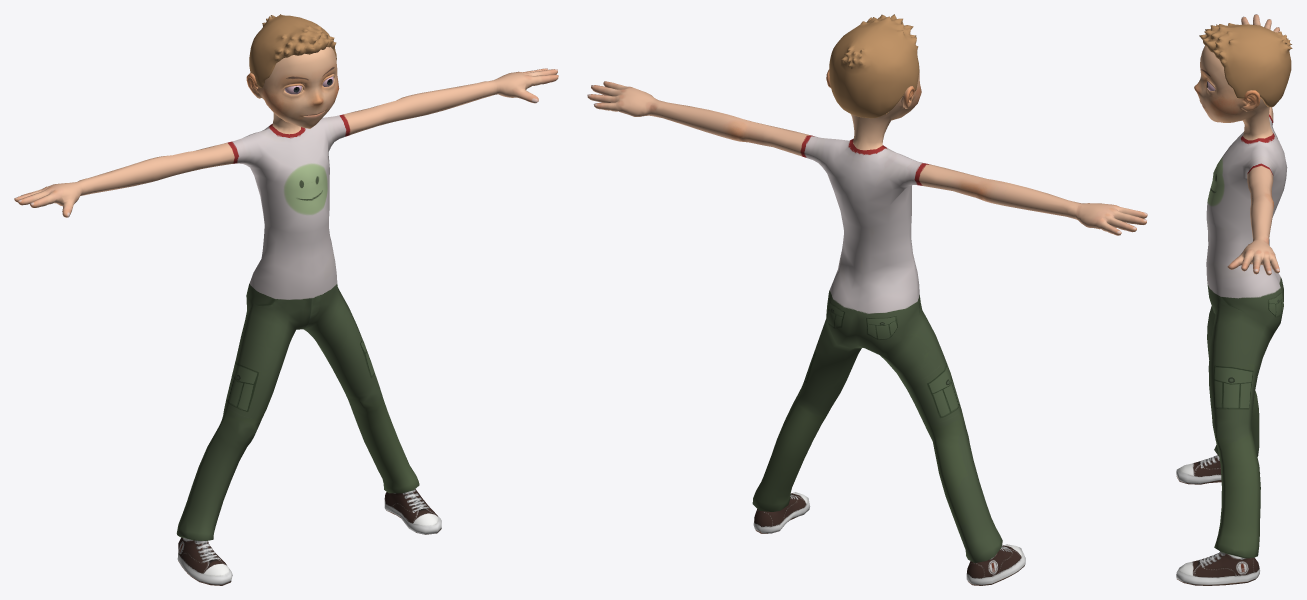
File: andy.obj
3 views of the same model, side by side, from view 1: azimuth 30°, elevation 25°; view 2: azimuth 150°, elevation 25°; view 3: azimuth 270°, elevation 25° (orthographic). The views are drawn at different scales.
Parts seen in each view (by area): view 1: andy; view 2: andy; view 3: andy.
Boxes of the visible parts, x1=… form: andy: x1=14, y1=14, x2=558, y2=585; andy: x1=587, y1=14, x2=1147, y2=585; andy: x1=1176, y1=14, x2=1292, y2=585.
Size of the model in its own units: 192 by 175 by 36.75.
